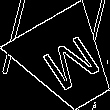M_SE: (31, 28, 102, 95)
